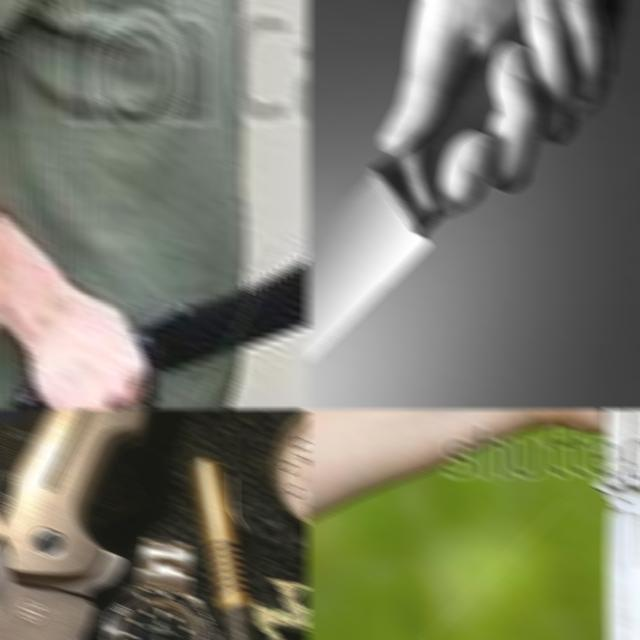Knife: (305, 19, 528, 363), (139, 258, 309, 403), (594, 408, 640, 640)
Knife_Handle: (305, 0, 636, 369), (0, 220, 309, 410), (496, 408, 640, 640)
